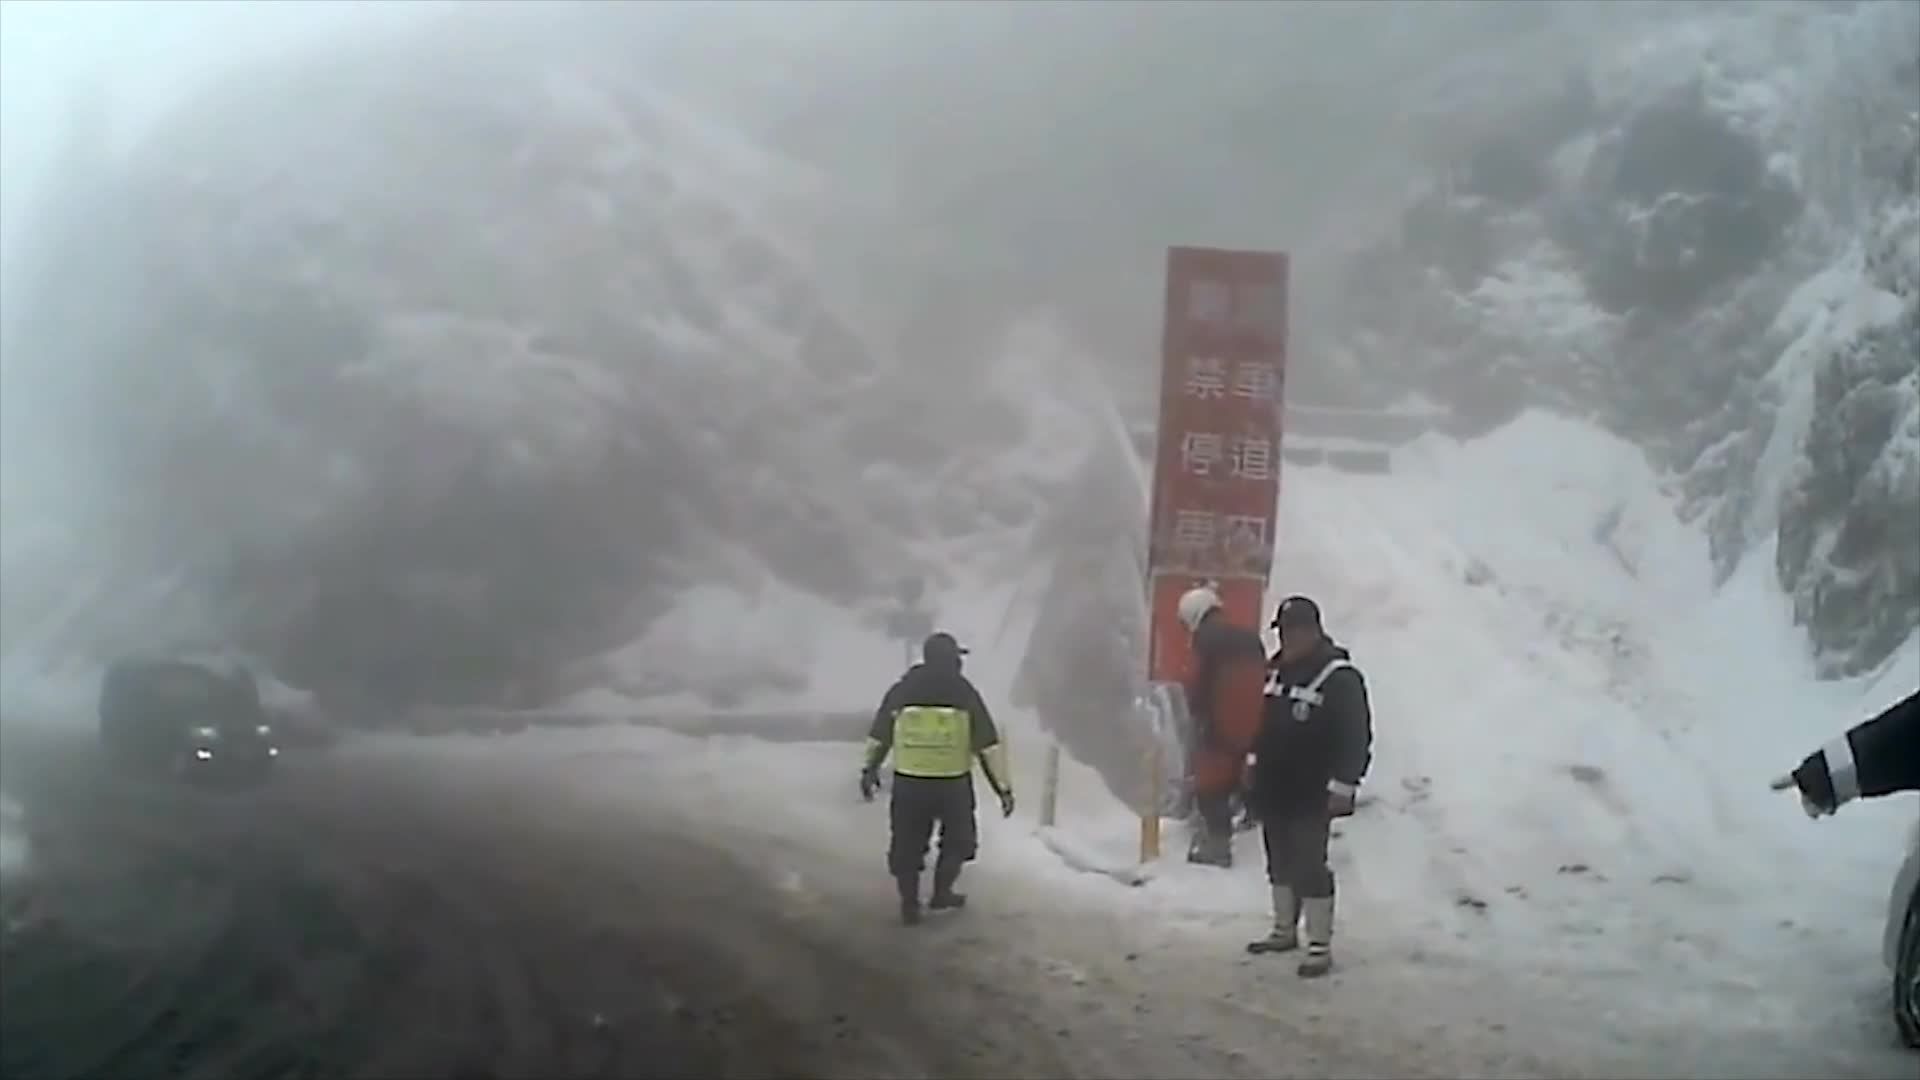pedestrian: (1248, 591, 1374, 984), (862, 625, 1020, 922), (1164, 591, 1274, 845)
vehicle: (99, 654, 279, 787)
